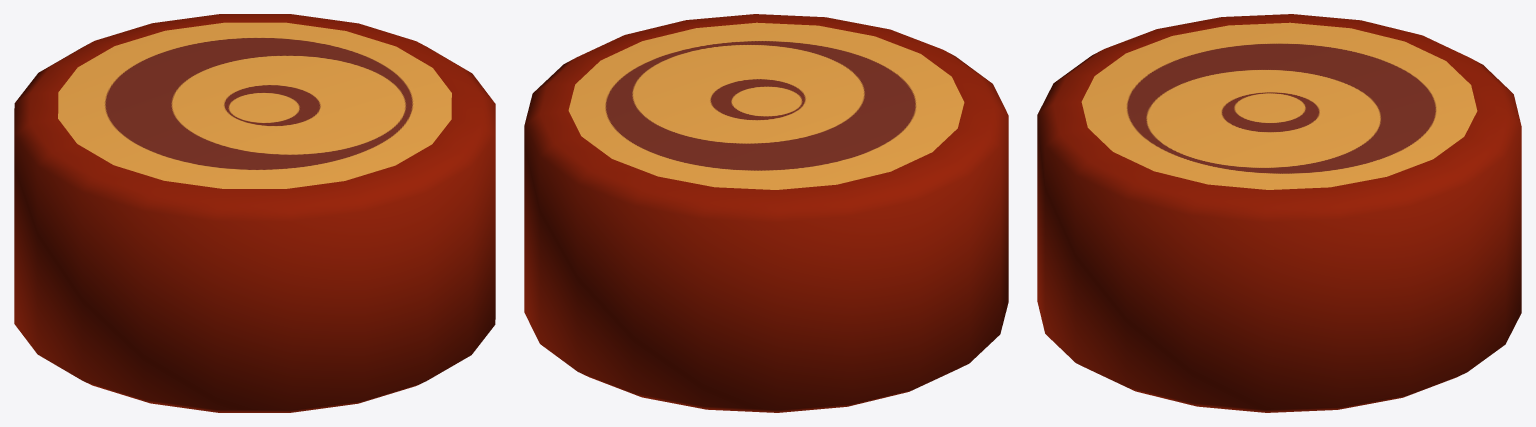
Rendered from LogBig.fbx.
3 views of the same model, side by side, from view 1: azimuth 30°, elevation 25°; view 2: azimuth 150°, elevation 25°; view 3: azimuth 270°, elevation 25° (orthographic).
Parts seen in each view (by area): view 1: LogsBig; view 2: LogsBig; view 3: LogsBig.
Part boxes in pixels (<box>): LogsBig: <box>14,14,495,412</box>; LogsBig: <box>524,14,1008,412</box>; LogsBig: <box>1037,14,1521,412</box>.
Size of the model in its own units: 6.72 by 3.28 by 6.72.
